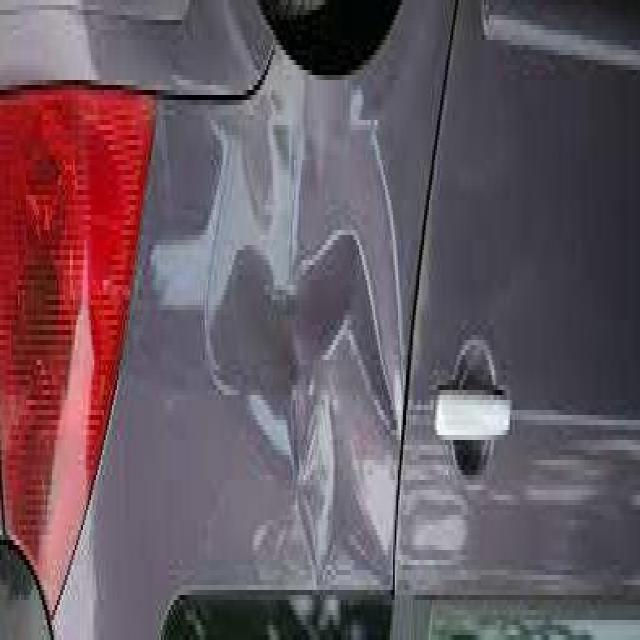dent: (166, 30, 430, 640)
